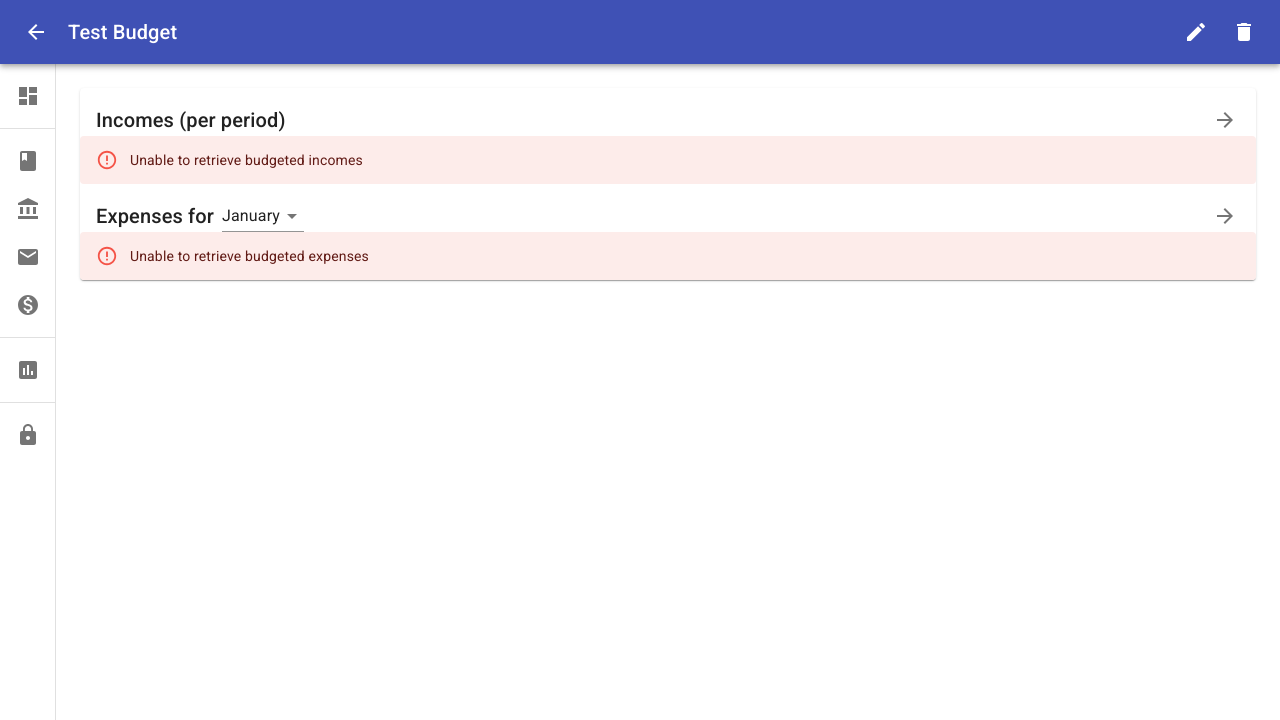
it: should open dialogs when using nav bar actions
The image size is (1280, 720).
Expected: the heading "Test Budget" is shown, [68,20,177,44]
Click the button named "modify" at (1196, 32), box [1172,8,1220,56]
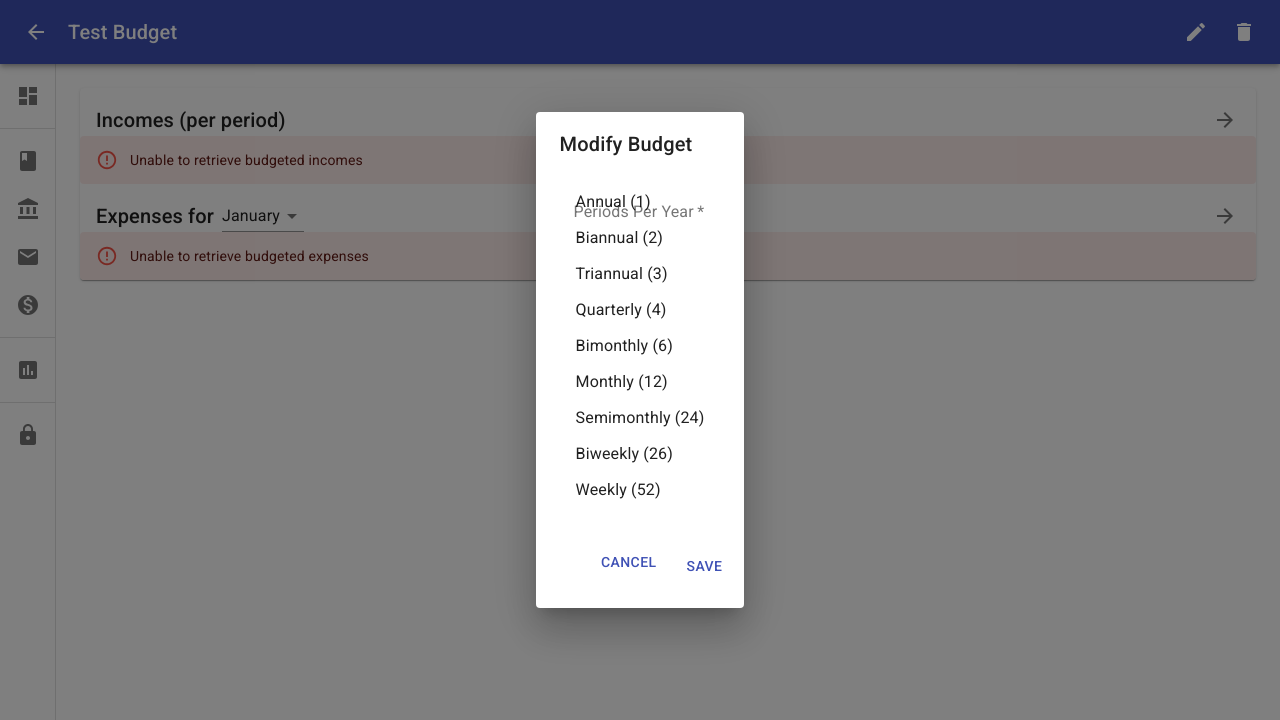
Expected: the heading "Modify Budget" is shown, [560,132,692,156]
